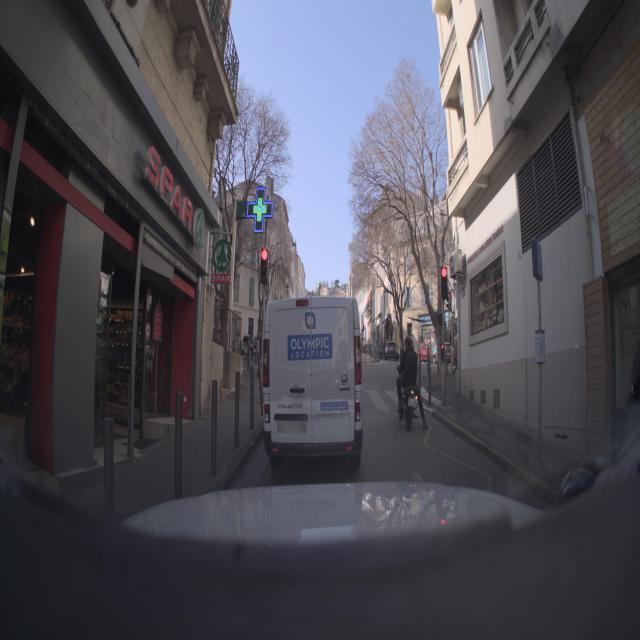Red: (258, 246, 273, 286), (438, 265, 450, 301)
